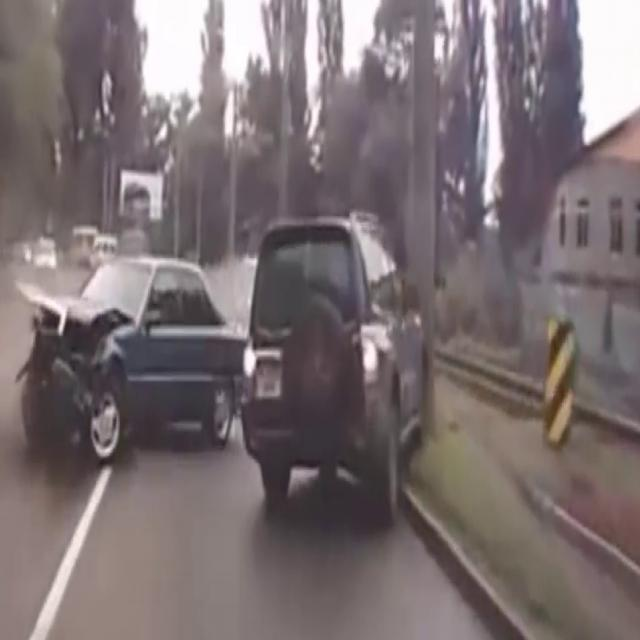accident: (37, 207, 249, 483)
